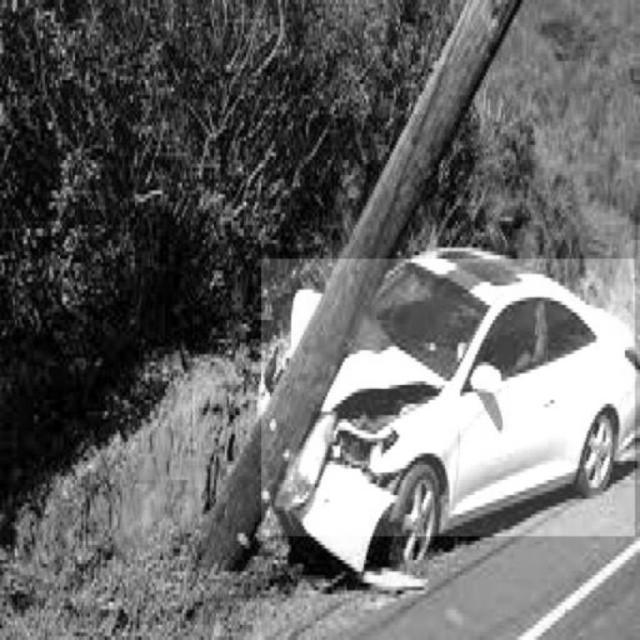accident: (182, 252, 635, 591)
